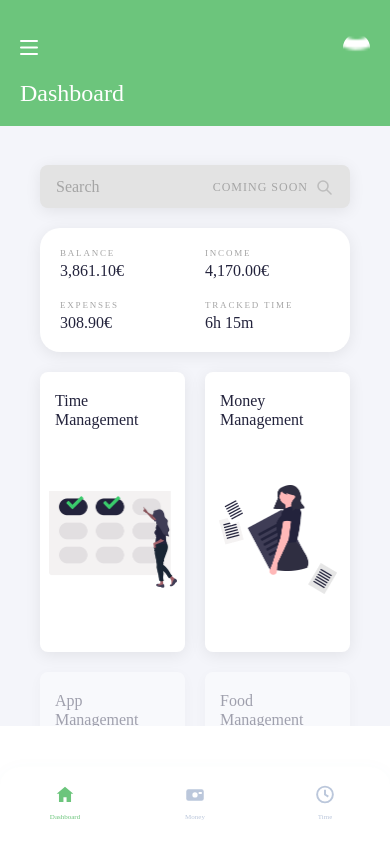
Time tab → calendar route › shows the opening day agenda and no placeholder text
Click the tab with test id "tab-time" at (325, 802), box [314,784,336,821]
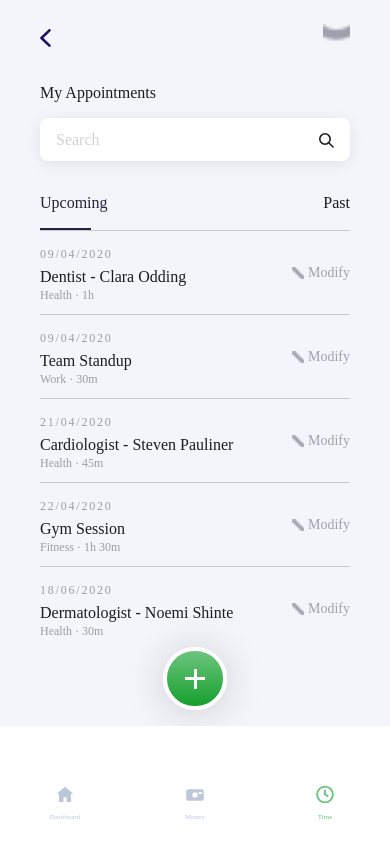
Click the button with test id "time-open-calendar" at (62, 38), box [40,24,84,51]
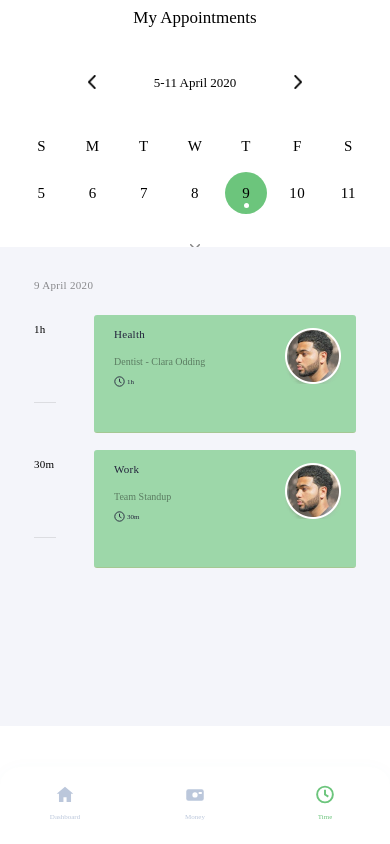
Expected: the text "Dentist - Clara Odding" is shown, [114,356,205,367]
Expected: the text "Team Standup" is shown, [114,491,171,502]
Expected: the element with test id "screen-time-calendar" is shown
